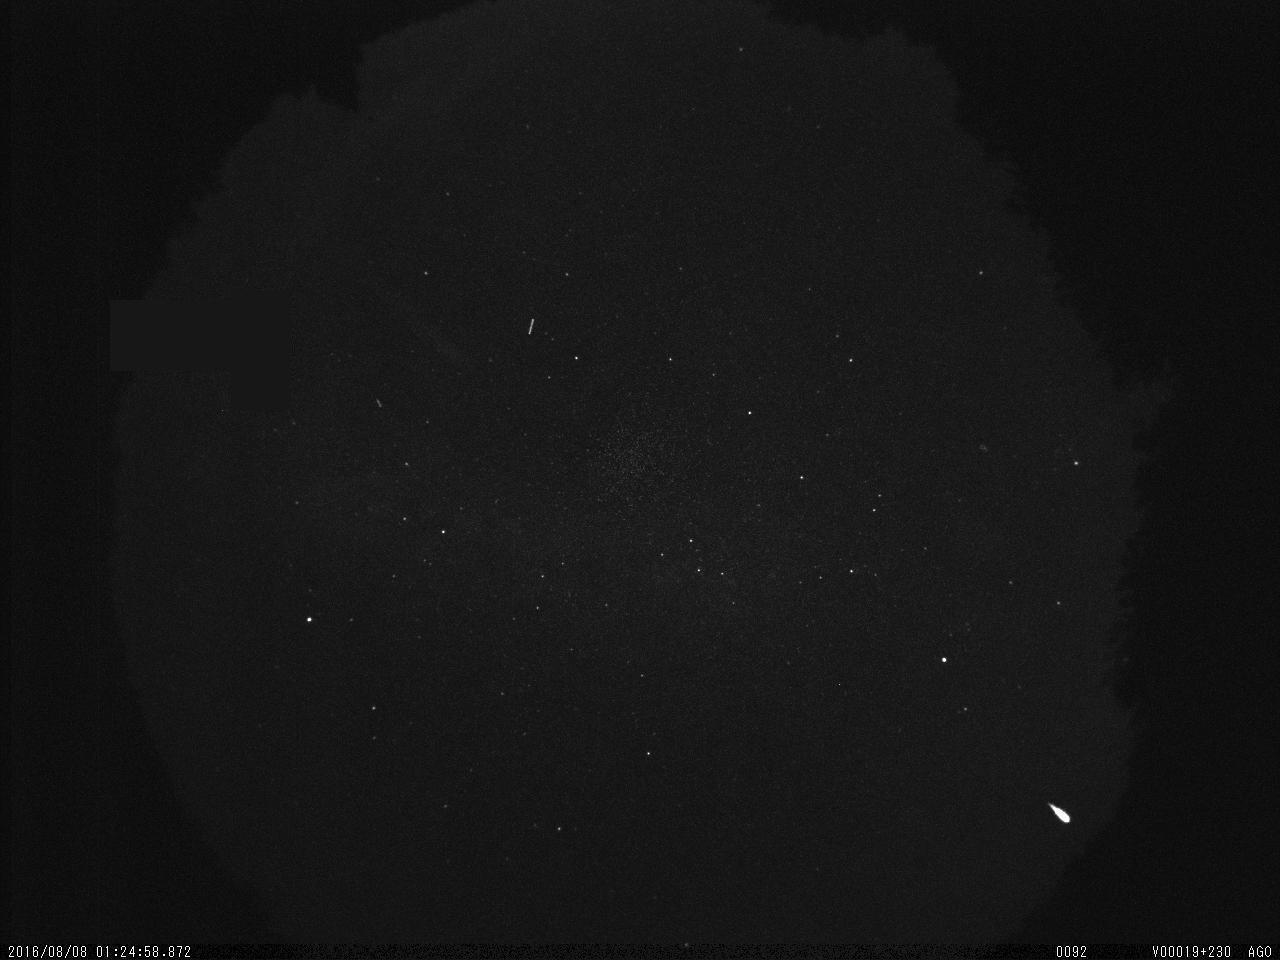Meteor: (1046, 798, 1074, 830), (372, 394, 385, 412)
